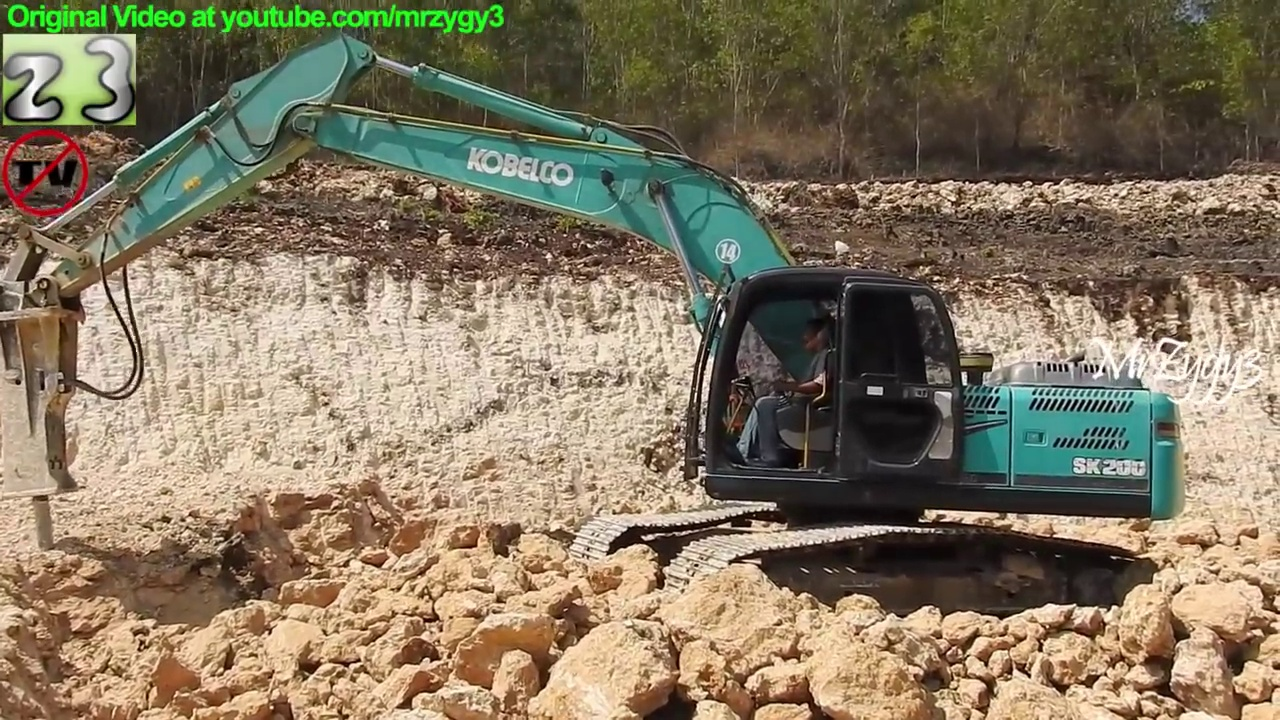excavator breaker: (1, 25, 1196, 628)
